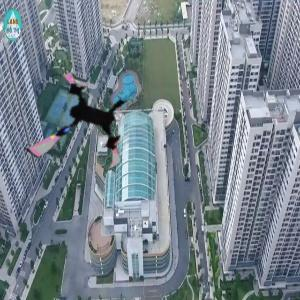drone: (22, 67, 140, 185)
